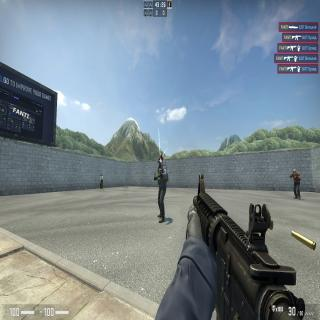CT-Body: (156, 156, 168, 224)
CT-Head: (158, 156, 163, 165)
T-Body: (292, 170, 300, 198), (100, 174, 103, 189)
T-Head: (293, 169, 296, 175), (100, 174, 102, 177)
